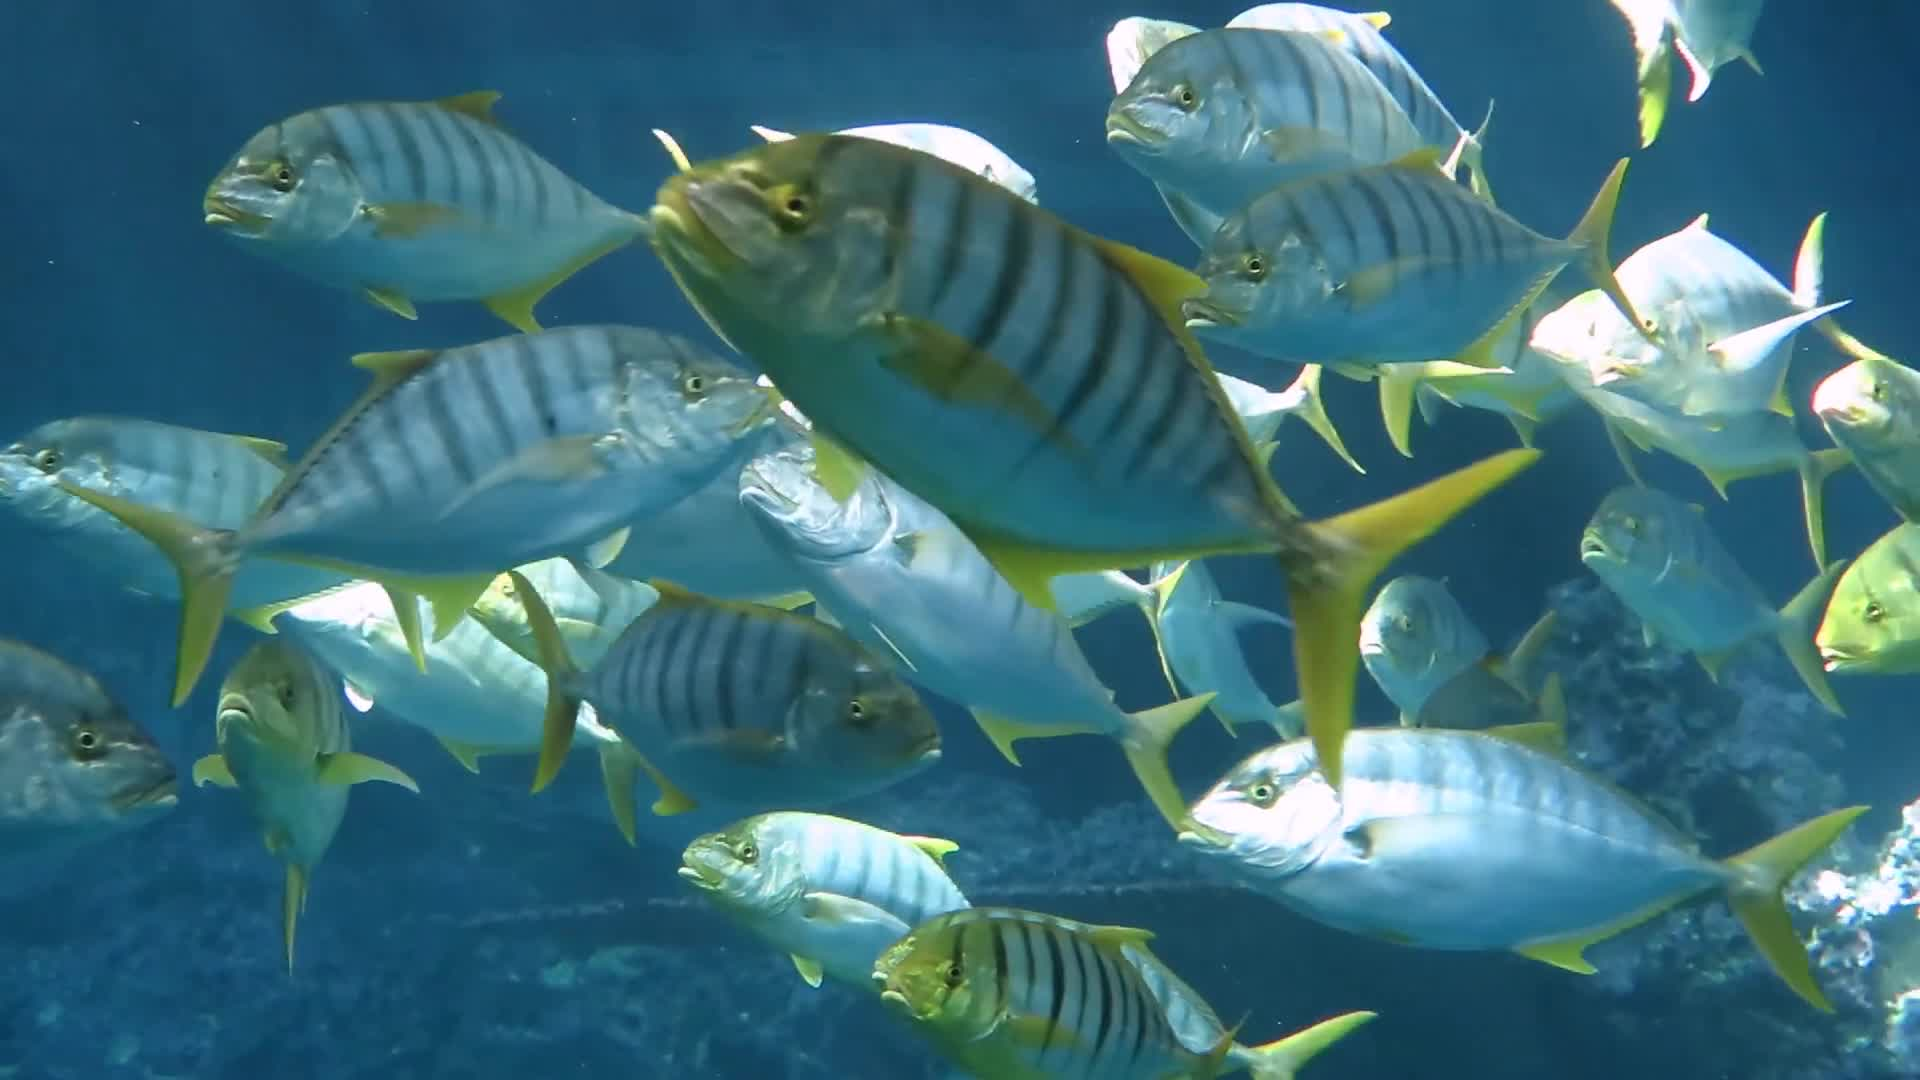Gnathanodon speciosus: (663, 116, 1358, 695), (219, 73, 649, 309), (522, 585, 949, 815), (1172, 186, 1623, 361), (15, 411, 359, 628), (855, 928, 1342, 1072), (1062, 28, 1481, 167), (1586, 214, 1855, 423), (1567, 476, 1826, 684), (1, 633, 193, 866), (206, 626, 353, 928)
